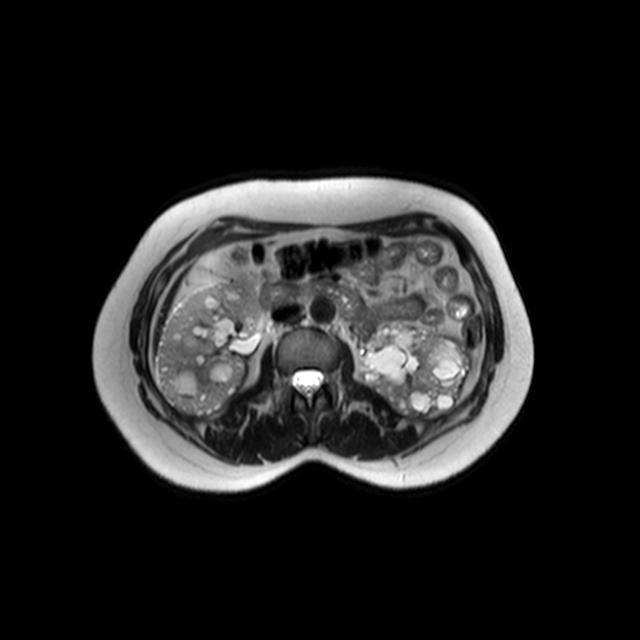sag: (156, 271, 264, 418)
sol: (354, 320, 473, 418)
